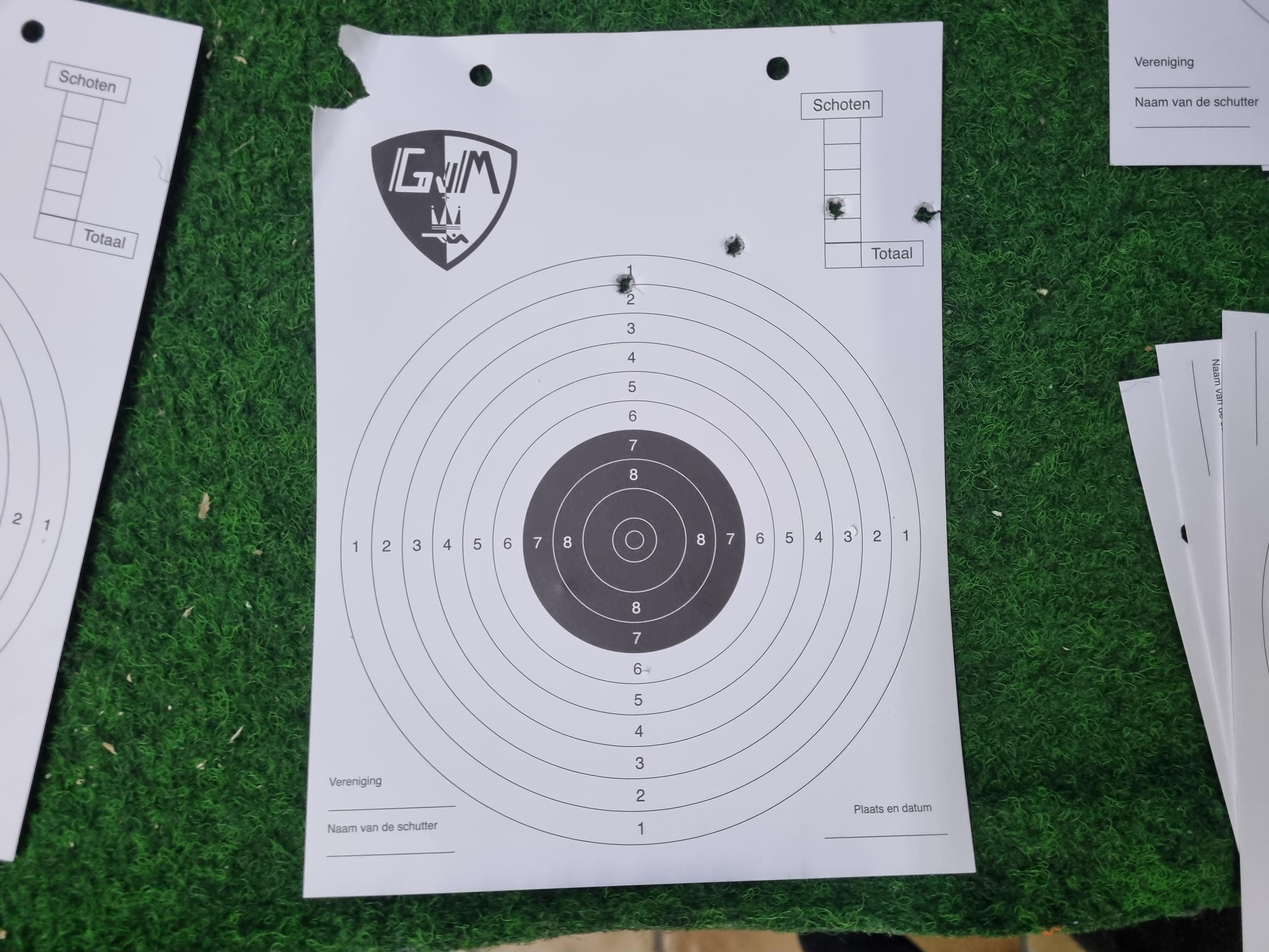hole: (267, 250, 304, 268), (260, 317, 294, 333), (313, 393, 343, 409), (365, 475, 393, 490)
